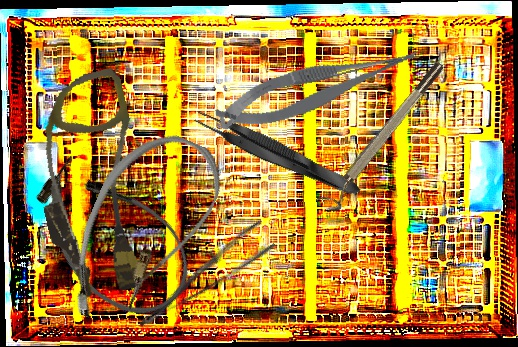Cannula: (52, 116, 234, 346), (12, 138, 211, 339), (16, 66, 167, 304)
Dressing Forceps: (125, 219, 278, 330)
Fixation Ring: (315, 58, 454, 217)
Micro Scissor: (208, 40, 430, 137)
Tissue Forceps: (189, 103, 366, 205)
